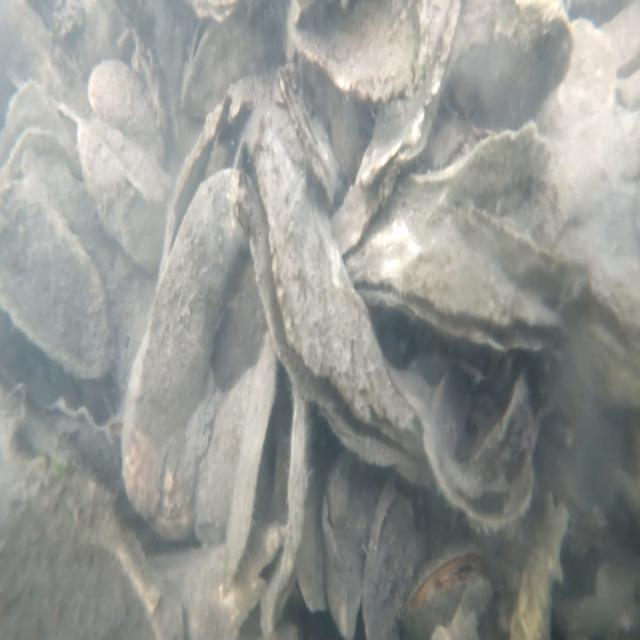Oyster-Closed: (332, 0, 462, 263), (320, 445, 374, 640), (364, 480, 419, 640), (405, 542, 491, 640), (278, 61, 338, 198), (36, 396, 121, 479)
Oyster-Indeterminate: (0, 392, 174, 640), (0, 181, 113, 378), (441, 0, 573, 133), (287, 0, 440, 104), (75, 114, 168, 270), (88, 60, 164, 163)
Oyster-Open: (246, 111, 420, 471), (122, 97, 251, 543), (344, 180, 568, 356), (224, 326, 314, 638), (424, 352, 534, 530), (0, 77, 79, 194), (178, 13, 267, 116)
